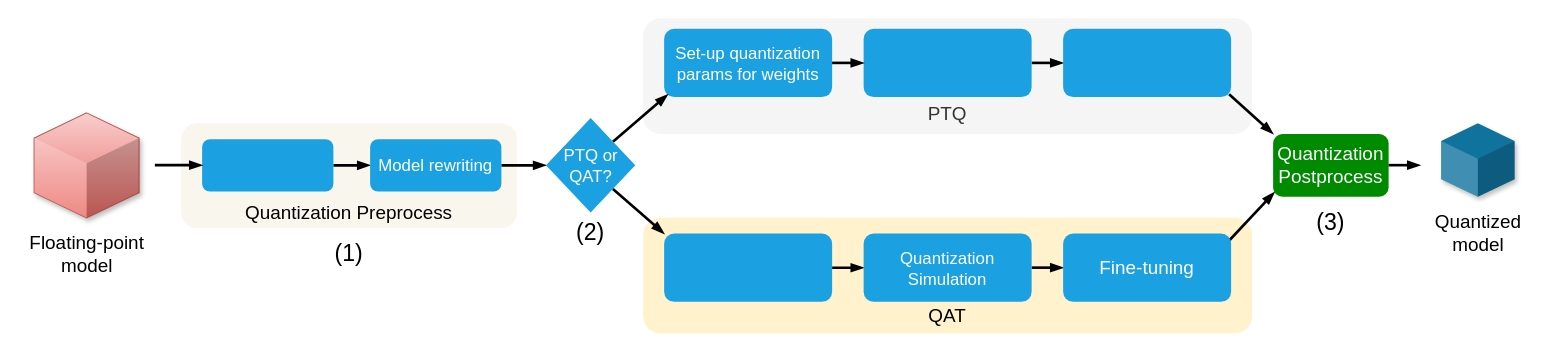
Some shapes in this 1553 by 351 pixel diagram are drawn without their labels. The centre of each missing label's shape, as x and y in pixels:
"AdaRound" belongs at point (947, 62).
"Cross-layer Equalizer" belongs at point (267, 165).
"Set-up quantization params for activations" belongs at point (1147, 62).
"Set-up quantization params for weights and activations" belongs at point (748, 267).
